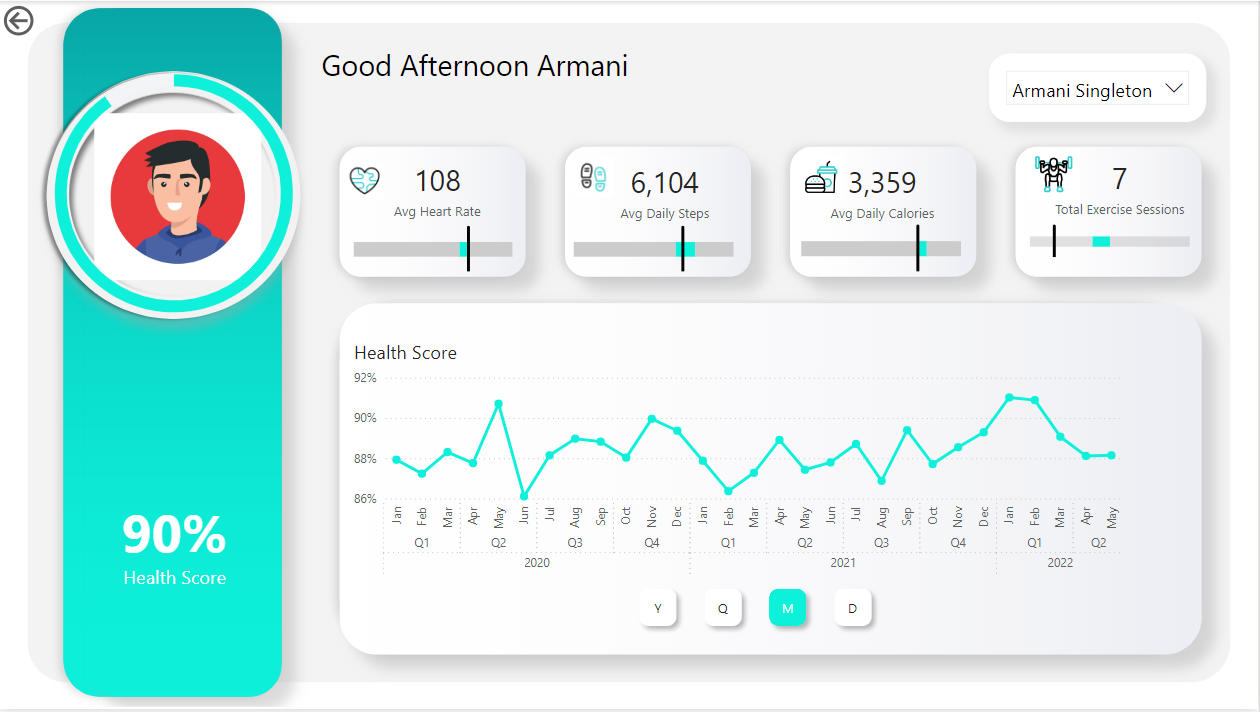

The page's visual inventory and layout, read from the dashboard file:
{"tool":"powerbi","page":{"name":"Page 1","canvas":[1280,720],"ordinal":0},"visuals":[{"type":"card","fields":{"Values":["Metrics.Avg Heart Rate over Selected Period"]},"box":[358.3,153.2,174.9,74.8],"z":0},{"type":"card","fields":{"Values":["Metrics.Avg Daily Steps over Selected Period"]},"box":[589.9,155.6,174.9,74.8],"z":1000},{"type":"card","fields":{"Values":["Metrics.Avg Daily Calories over Selected Period"]},"box":[810.7,154.4,174.9,76],"z":2000},{"type":"card","fields":{"Values":["Metrics.Total Exercise Sessions over Selected Period"]},"box":[1052,152,174.9,73.6],"z":3000},{"type":"lineChart","title":"Health Score","fields":{"Y":["Metrics.Health Score"],"Category":["dimDate.Calendar.Year","dimDate.Calendar.Quarter","dimDate.Calendar.Month","dimDate.Calendar.Weekday"]},"box":[356.1,343.9,790.4,249.5],"z":4000},{"type":"slicer","title":"fgg","fields":{"Values":["dimUser.Name"]},"box":[1006.1,53.4,221,69.9],"z":5000},{"type":"card","fields":{"Values":["Metrics.Health Score"]},"box":[73.6,481.4,209.9,136.3],"z":6000},{"type":"tableEx","fields":{"Values":["dimUser.Photo Img"]},"box":[79.6,88.1,203.9,212.3],"z":7000},{"type":"multiRowCard","fields":{"Values":["Metrics.Welcome Text"]},"box":[322.1,39.8,386.1,67.6],"z":8000},{"type":"donutChart","fields":{"Y":["Metrics.Health Score","Metrics.Health Score - Fill to 100"]},"box":[21.7,39.8,312.5,312.5],"z":9000},{"type":"barChart","fields":{"Y":["Metrics.Avg Heart Rate - Target Min","Metrics.Avg Heart Range","Metrics.Avg Heart Rate - Axis Fill"]},"box":[355.9,217.2,171.3,62.7],"z":10000},{"type":"barChart","fields":{"Y":["Metrics.Avg Daily Steps - Target Min","Metrics.Avg Daily Steps Range","Metrics.Avg Daily Steps - Axis Fill"]},"box":[579.1,217.2,172.5,62.7],"z":11000},{"type":"barChart","fields":{"Y":["Metrics.Avg Daily Calories - Target Min","Metrics.Avg Calories Target Range","Metrics.Avg Calories - Axis Fill"]},"box":[810.7,216,172.5,63.9],"z":12000},{"type":"barChart","fields":{"Y":["Metrics.Total Exercise Sessions - Target Min","Metrics.Total Exercise Sessions Range","Metrics.Total Exercise Sessions - Target Max"]},"box":[1043.6,216,172.5,49.5],"z":13000},{"type":"bookmarkNavigator","box":[642.2,588.4,256.6,56.4],"z":14000},{"type":"actionButton","box":[0,0,100,40],"z":15000},{"type":"image","box":[579.1,153.2,49.5,51.9],"z":16000},{"type":"image","box":[808.3,150.8,55.5,55.5],"z":17000},{"type":"image","box":[346.2,159.3,49.5,48.3],"z":18000},{"type":"image","box":[1036.3,144.8,70,62.7],"z":19000}]}

Visuals, with their boxes in screenshot pixels (x1, y1, x2, y2), scaled from the page's 1280x720 canvas onto the 1260x712 screenshot:
card - Metrics.Avg Heart Rate over Selected Period: x1=353 y1=151 x2=525 y2=225
card - Metrics.Avg Daily Steps over Selected Period: x1=581 y1=154 x2=753 y2=228
card - Metrics.Avg Daily Calories over Selected Period: x1=798 y1=153 x2=970 y2=228
card - Metrics.Total Exercise Sessions over Selected Period: x1=1036 y1=150 x2=1208 y2=223
"Health Score" lineChart: x1=351 y1=340 x2=1129 y2=587
"fgg" slicer: x1=990 y1=53 x2=1208 y2=122
card - Metrics.Health Score: x1=72 y1=476 x2=279 y2=611
tableEx - dimUser.Photo Img: x1=78 y1=87 x2=279 y2=297
multiRowCard - Metrics.Welcome Text: x1=317 y1=39 x2=697 y2=106
donutChart - Metrics.Health Score x Metrics.Health Score - Fill to 100: x1=21 y1=39 x2=329 y2=348
barChart - Metrics.Avg Heart Rate - Target Min x Metrics.Avg Heart Range: x1=350 y1=215 x2=519 y2=277
barChart - Metrics.Avg Daily Steps - Target Min x Metrics.Avg Daily Steps Range: x1=570 y1=215 x2=740 y2=277
barChart - Metrics.Avg Daily Calories - Target Min x Metrics.Avg Calories Target Range: x1=798 y1=214 x2=968 y2=277
barChart - Metrics.Total Exercise Sessions - Target Min x Metrics.Total Exercise Sessions Range: x1=1027 y1=214 x2=1197 y2=263
bookmarkNavigator: x1=632 y1=582 x2=885 y2=638
actionButton: x1=0 y1=0 x2=98 y2=40
image: x1=570 y1=151 x2=619 y2=203
image: x1=796 y1=149 x2=850 y2=204
image: x1=341 y1=158 x2=390 y2=205
image: x1=1020 y1=143 x2=1089 y2=205
